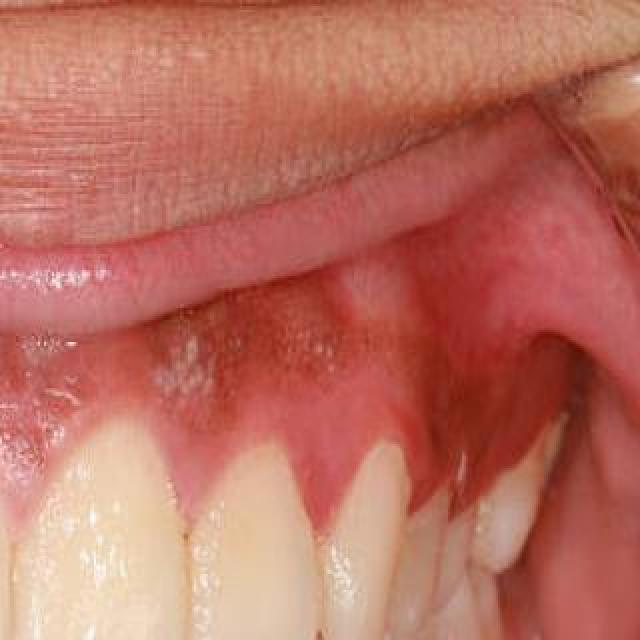maligned: (0, 394, 12, 640)
plaque: (16, 408, 186, 640), (192, 428, 318, 640), (328, 450, 414, 638), (483, 435, 559, 547), (403, 489, 475, 595), (0, 364, 6, 640)
